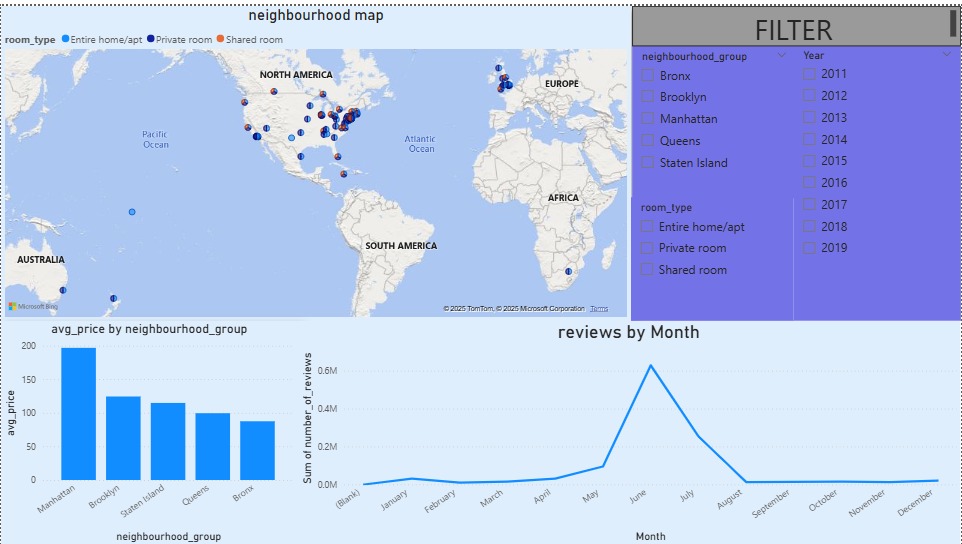

Layout of this report page (visuals, bound fields, positions):
{"tool":"powerbi","page":{"name":"Page 1","canvas":[1280,720],"ordinal":0},"visuals":[{"type":"map","title":"neighbourhood map","fields":{"Category":["ab_nyc_cleaned.neighbourhood"],"Series":["ab_nyc_cleaned.room_type"]},"box":[0,0,840,420],"z":0},{"type":"slicer","fields":{"Values":["ab_nyc_cleaned.neighbourhood_group"]},"box":[841.7,53.3,218.3,203.3],"z":1000},{"type":"clusteredColumnChart","fields":{"Y":["ab_nyc_cleaned.avg_price"],"Category":["ab_nyc_cleaned.neighbourhood_group"]},"box":[0,420,395.7,300],"z":2000},{"type":"lineChart","title":"reviews by Month","fields":{"Category":["ab_nyc_cleaned.new_last_review.Variation.Date Hierarchy.Month"],"Y":["Sum(ab_nyc_cleaned.number_of_reviews)"]},"box":[395.7,420,884.3,300],"z":3000},{"type":"slicer","fields":{"Values":["ab_nyc_cleaned.new_last_review.Variation.Date Hierarchy.Year"]},"box":[1056.7,51.7,223.3,368.3],"z":4000},{"type":"slicer","fields":{"Values":["ab_nyc_cleaned.room_type"]},"box":[840,255,216.7,165],"z":5000},{"type":"textbox","box":[841.7,0,438.3,53.3],"z":5001}]}

Visuals, with their boxes in screenshot pixels (x1, y1, x2, y2), scaled from the page's 1280x720 canvas onto the 962x544 screenshot:
"neighbourhood map" map: {"x1": 0, "y1": 0, "x2": 631, "y2": 317}
slicer - ab_nyc_cleaned.neighbourhood_group: {"x1": 633, "y1": 40, "x2": 797, "y2": 194}
clusteredColumnChart - ab_nyc_cleaned.avg_price x ab_nyc_cleaned.neighbourhood_group: {"x1": 0, "y1": 317, "x2": 297, "y2": 543}
"reviews by Month" lineChart: {"x1": 297, "y1": 317, "x2": 961, "y2": 543}
slicer - ab_nyc_cleaned.new_last_review.Variation.Date Hierarchy.Year: {"x1": 794, "y1": 39, "x2": 961, "y2": 317}
slicer - ab_nyc_cleaned.room_type: {"x1": 631, "y1": 193, "x2": 794, "y2": 317}
textbox: {"x1": 633, "y1": 0, "x2": 961, "y2": 40}
